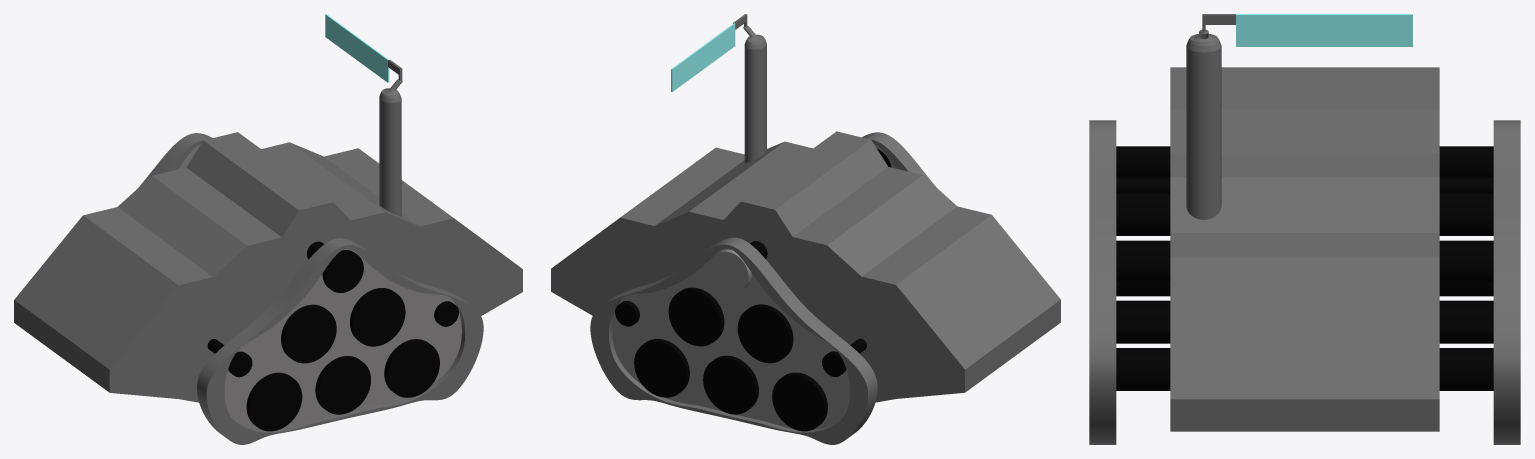
Rendered from Rover.glb.
3 views of the same model, side by side, from view 1: azimuth 30°, elevation 25°; view 2: azimuth 150°, elevation 25°; view 3: azimuth 270°, elevation 25° (orthographic). The views are drawn at different scales.
Visible parts, largest first — view 1: Part 9, Part 10, Part 1.001, Part 2.001, Part 6.002, Part 3.001, Part 7.001, Part 8, Part 9.002, Part 1.002, Part 5.002; view 2: Part 9, Part 10.001, Part 1.002, Part 8.001, Part 7.002, Part 2, Part 6.001, Part 3.002, Part 9.001, Part 1.001, Part 5.001; view 3: Part 9, Part 1.001, Part 1.002, Part 2.002, Part 4.002, Part 8.002, Part 1, Part 5, Part 3, Part 7, Part 6.
Boxes of the visible parts, box(x1,y1,x2,y2) form: Part 9: box(14, 14, 522, 402); Part 10: box(224, 249, 461, 429); Part 1.001: box(197, 238, 483, 444); Part 2.001: box(246, 372, 302, 431); Part 6.002: box(315, 356, 370, 414); Part 3.001: box(384, 339, 439, 397); Part 7.001: box(281, 304, 336, 363); Part 8: box(350, 288, 405, 346); Part 9.002: box(322, 250, 363, 292); Part 1.002: box(138, 133, 212, 187); Part 5.002: box(434, 301, 458, 326); Part 9: box(551, 14, 1060, 402); Part 10.001: box(612, 248, 849, 429); Part 1.002: box(590, 237, 877, 444); Part 8.001: box(668, 287, 724, 346); Part 7.002: box(737, 304, 793, 363); Part 2: box(772, 372, 827, 431); Part 6.001: box(703, 355, 758, 414); Part 3.002: box(634, 339, 689, 397); Part 9.001: box(710, 249, 751, 292); Part 1.001: box(862, 132, 935, 186); Part 5.001: box(615, 301, 639, 326); Part 9: box(1116, 14, 1439, 431); Part 1.001: box(1089, 120, 1116, 444); Part 1.002: box(1493, 120, 1520, 444); Part 2.002: box(1439, 240, 1493, 283); Part 4.002: box(1439, 348, 1493, 390); Part 8.002: box(1439, 193, 1493, 235); Part 1: box(1439, 146, 1493, 177); Part 5: box(1439, 300, 1493, 343); Part 3: box(1439, 319, 1493, 336); Part 7: box(1439, 177, 1493, 193); Part 6: box(1439, 283, 1493, 296).
Bounding box in the file's own units: 3.8 × 2.65 × 2.44.
Materials: 4 (3 with a texture image).
